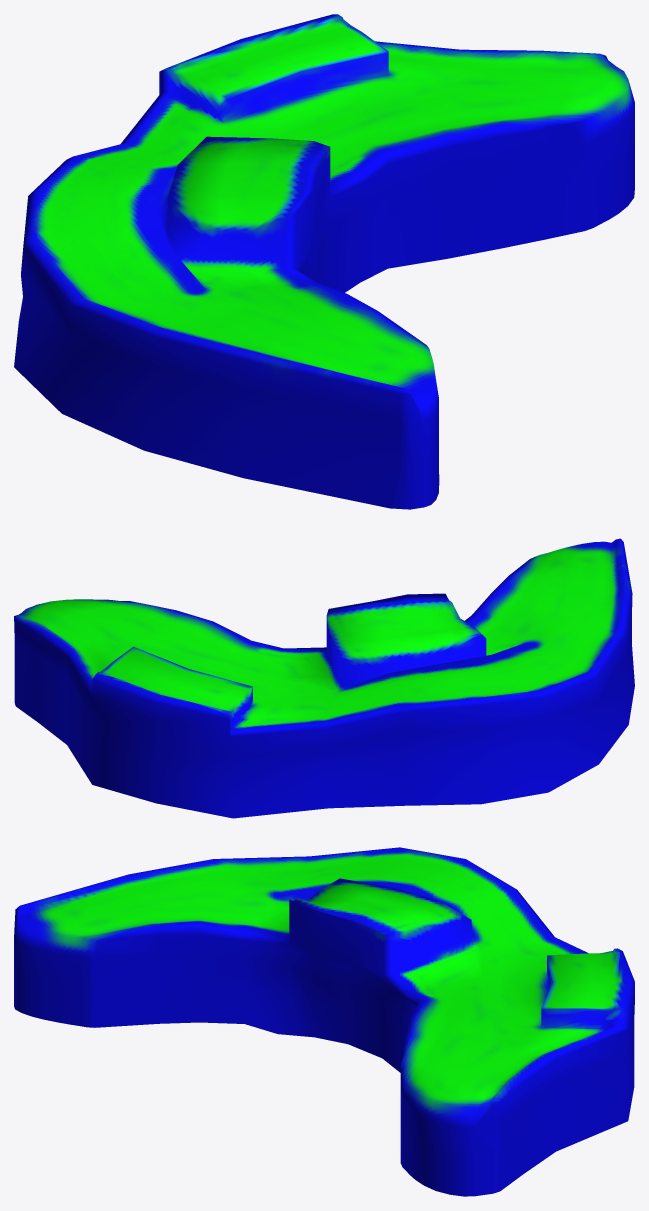
Rendered from BananaIslandShape.dae.
The picture shows the model from 3 angles, top to bottom: view 1: azimuth 30°, elevation 25°; view 2: azimuth 150°, elevation 25°; view 3: azimuth 270°, elevation 25°; orthographic projection. The views are drawn at different scales.
Parts seen in each view (by area): view 1: BananaIsland; view 2: BananaIsland; view 3: BananaIsland.
Boxes of the visible parts, bbox=[...] form: BananaIsland: bbox=[14, 14, 634, 509]; BananaIsland: bbox=[14, 538, 634, 818]; BananaIsland: bbox=[14, 847, 634, 1196].
Bounding box in the file's own units: 244 × 57.39 × 249.
